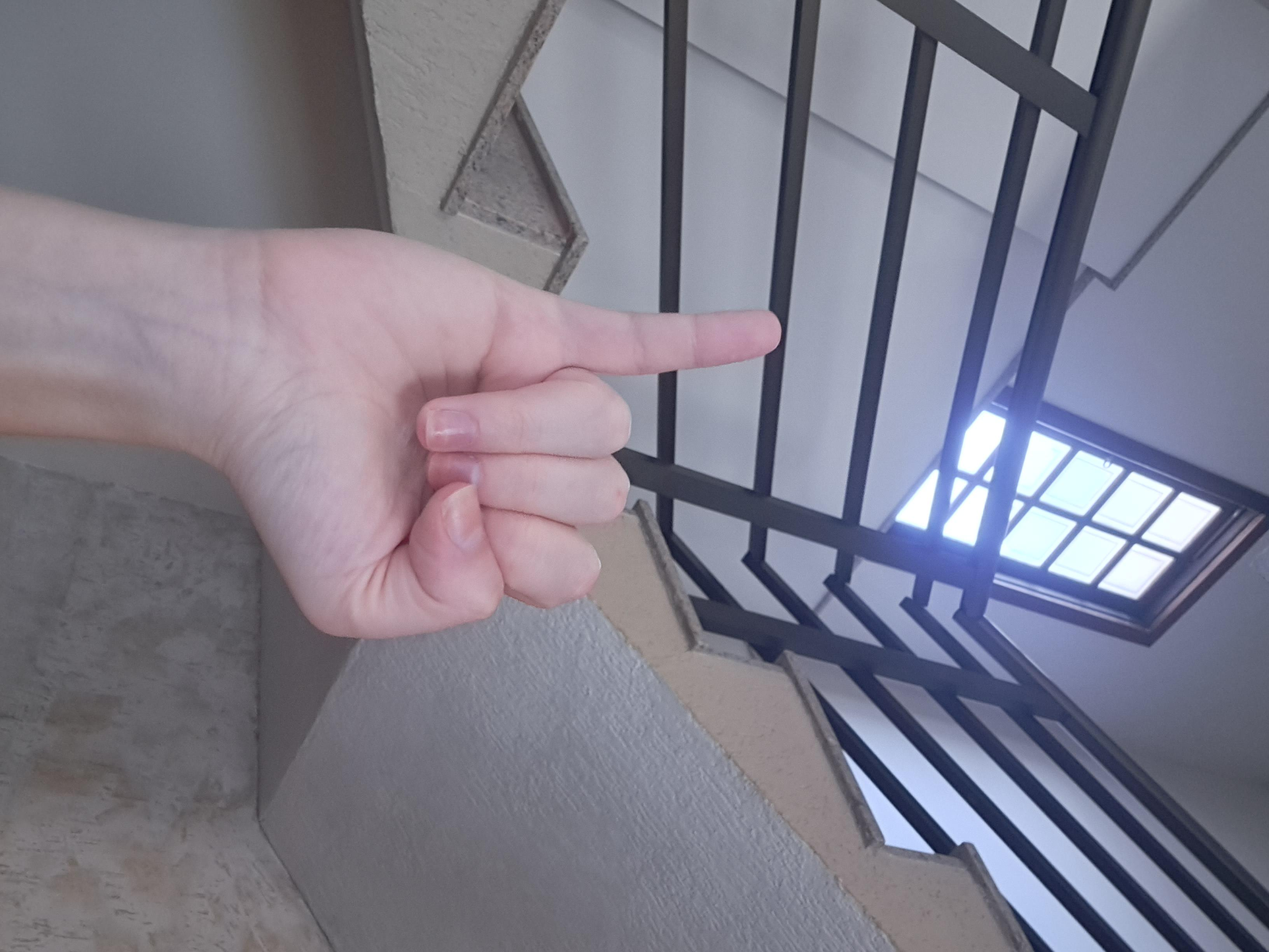I: (285, 359, 866, 811)
